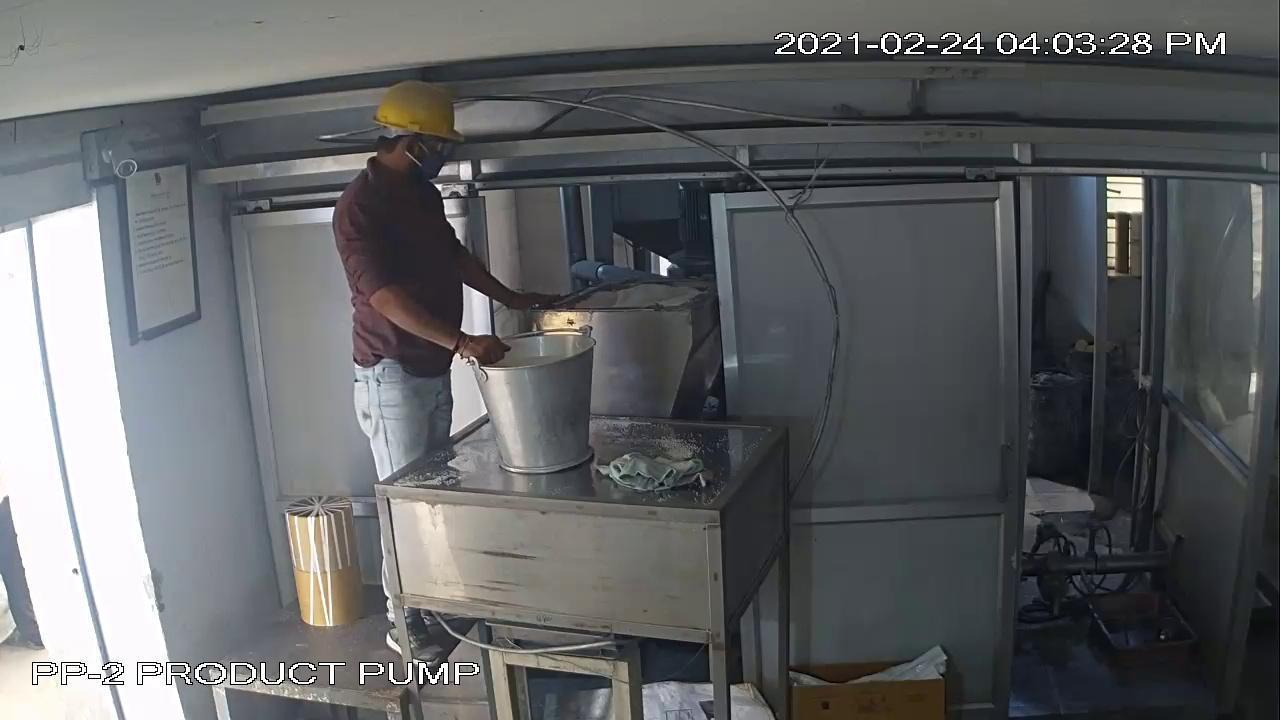helmet: (367, 78, 459, 137)
